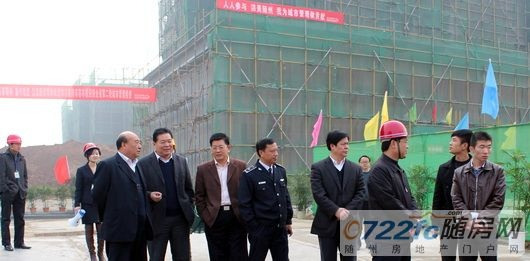none: (466, 129, 494, 162), (446, 128, 474, 157), (150, 125, 175, 156), (206, 131, 232, 160), (113, 131, 142, 157), (325, 128, 349, 159), (254, 138, 280, 164), (358, 153, 371, 172)
red: (378, 117, 411, 159), (81, 141, 101, 163), (5, 132, 23, 152)
